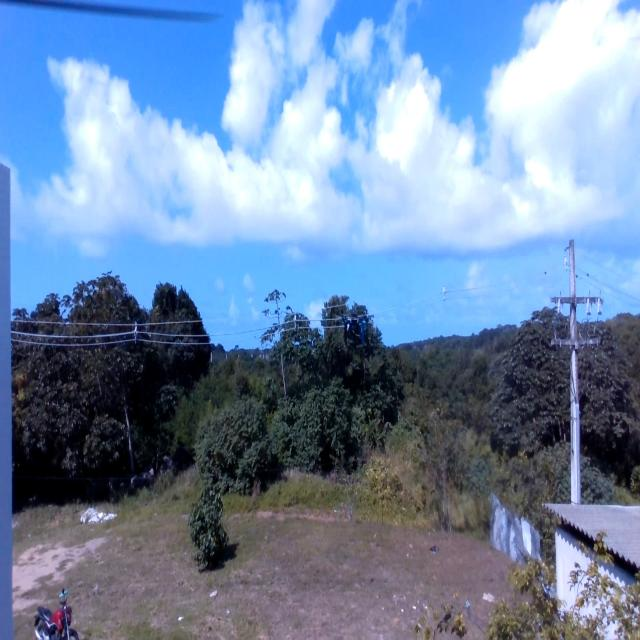-uav-: (334, 298, 378, 357)
